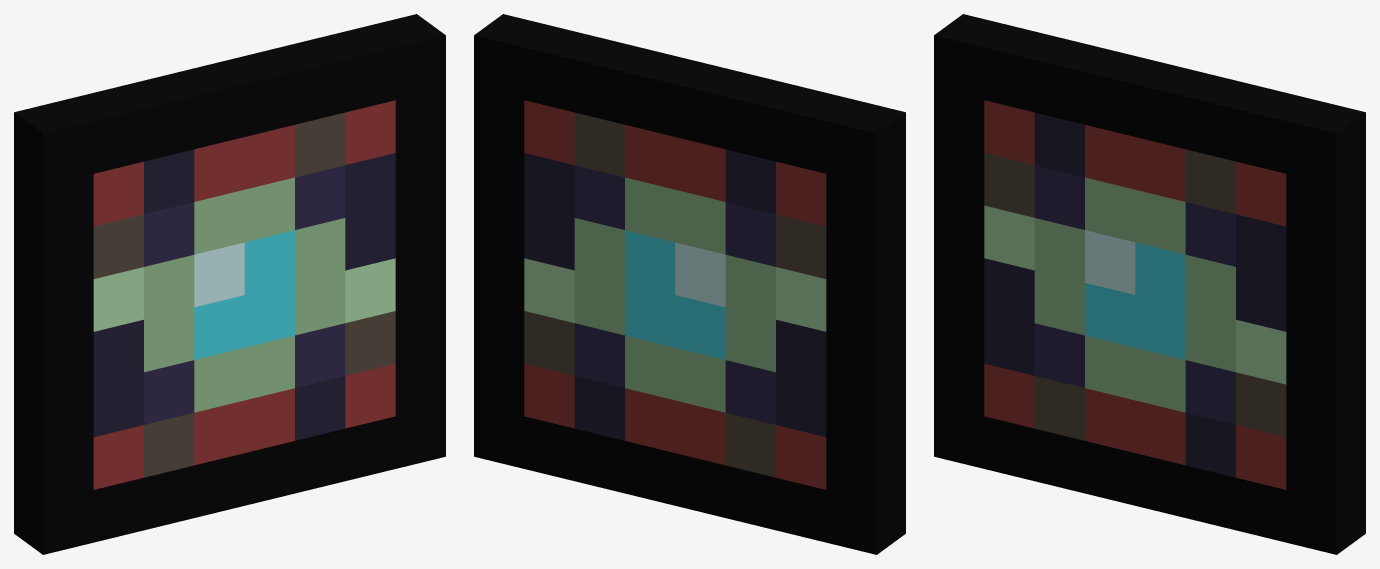
The model's file is Draugr Huntress Spawner Block.glb.
3 renders of one model, left to right at view 1: azimuth 30°, elevation 25°; view 2: azimuth 150°, elevation 25°; view 3: azimuth 330°, elevation 25°, orthographic.
Visible parts, largest first — view 1: generated(Clone); view 2: generated(Clone); view 3: generated(Clone).
Part boxes in pixels (<box>): generated(Clone): <box>14,14,445,554</box>; generated(Clone): <box>474,14,905,554</box>; generated(Clone): <box>934,14,1365,554</box>.
Size of the model in its own units: 8 by 8 by 1.
1 material, 1 textured.
